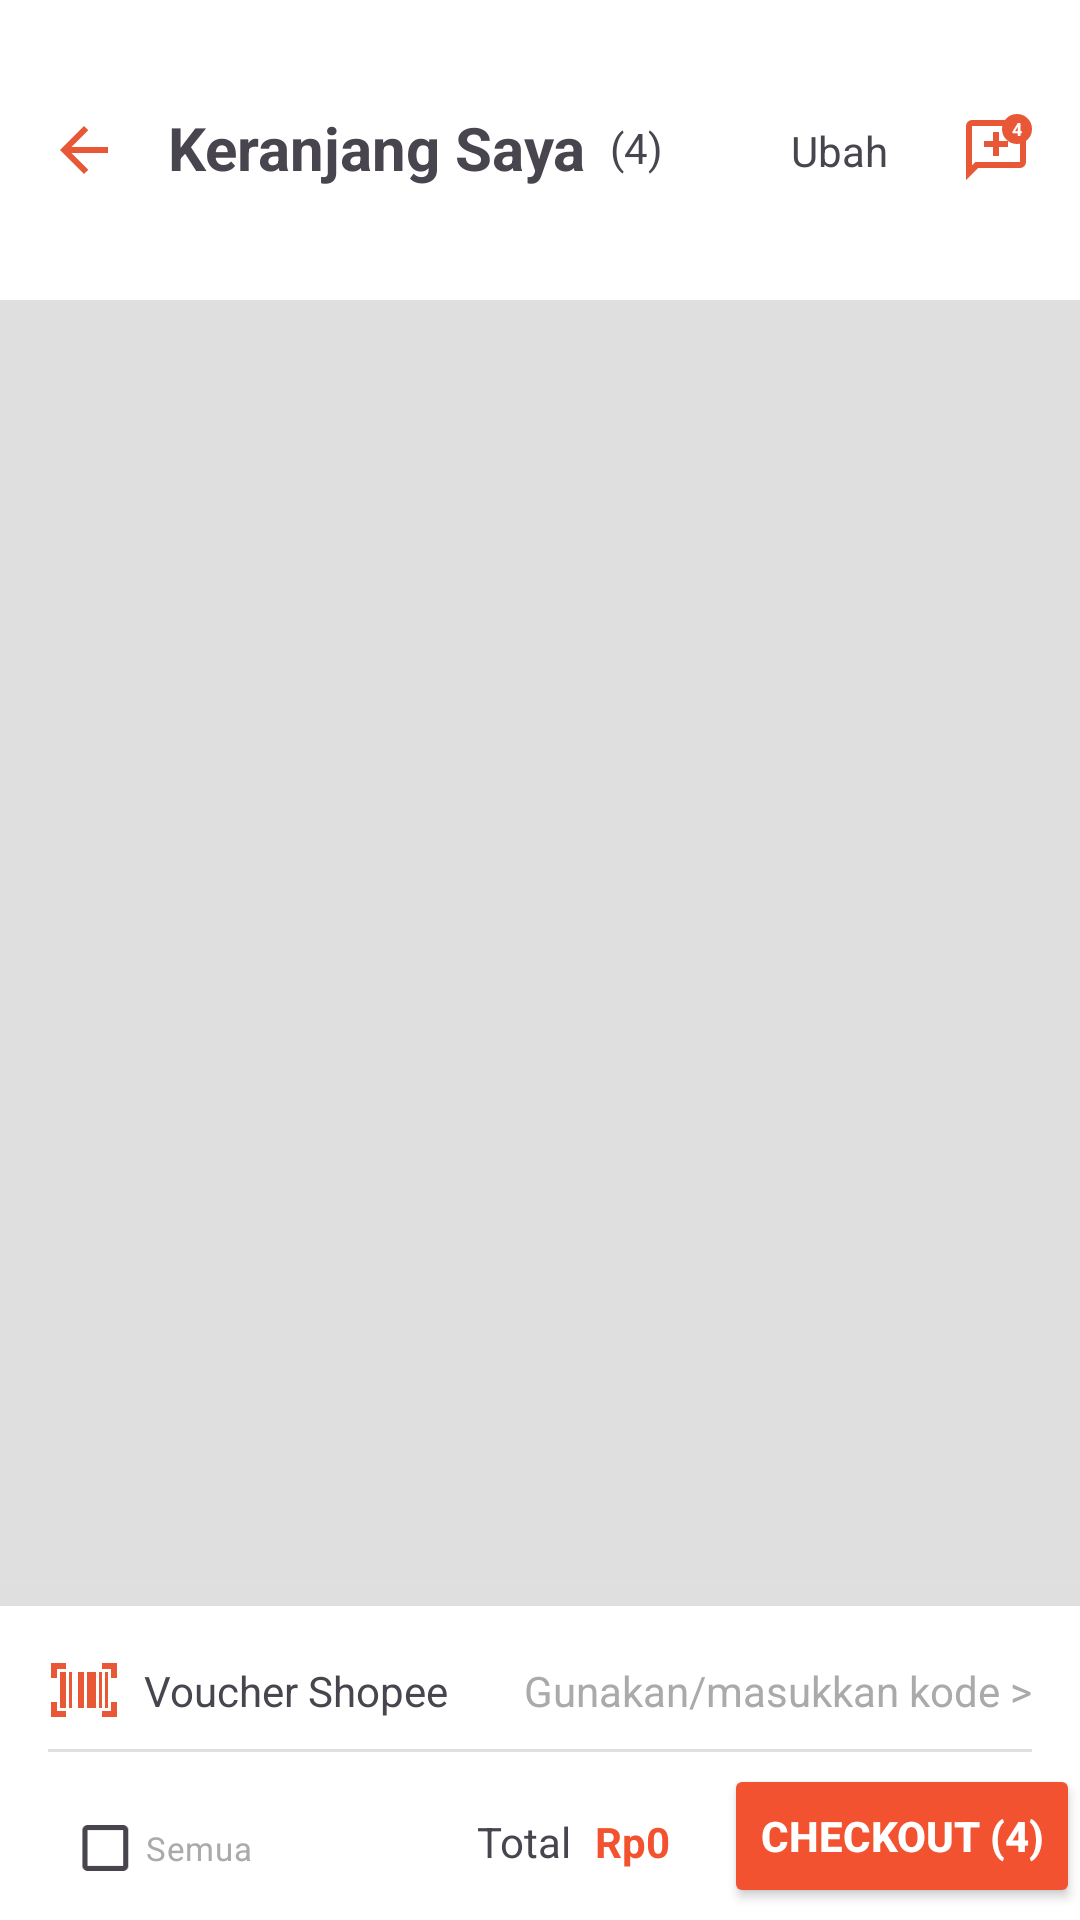

Icon click points for this 1080w x 1920h phone screenshot, format point (x, y):
back: point (84, 150)
chat: point (999, 147)
